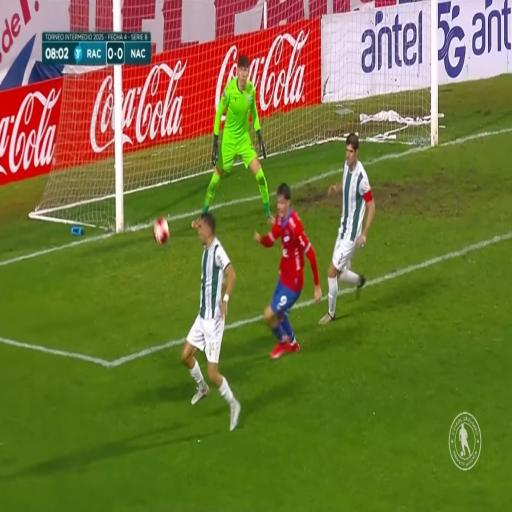Ball: (154, 213, 171, 250)
Goalkeeper: (222, 60, 256, 212)
Player: (320, 135, 373, 332), (189, 212, 231, 424), (270, 188, 308, 360)
